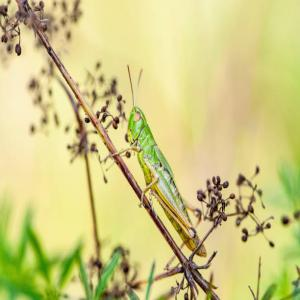locust: (108, 57, 221, 262)
